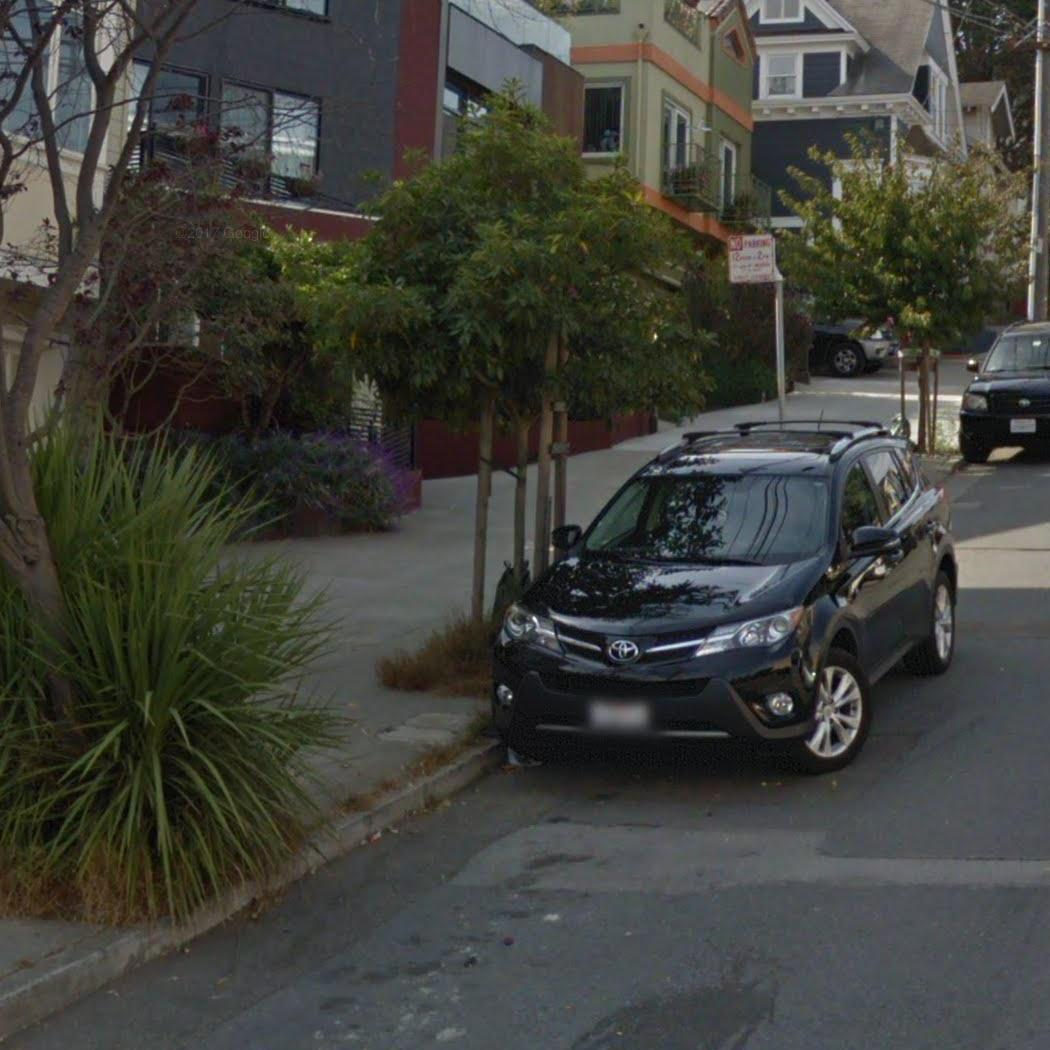No Parking: (722, 230, 780, 287)
